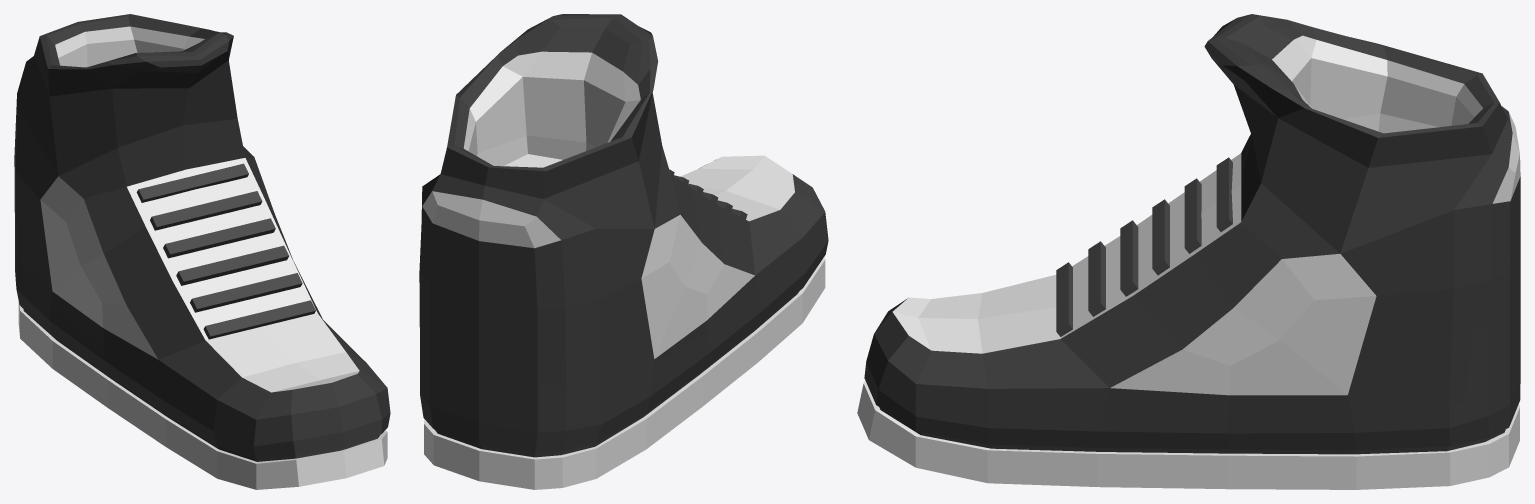
Rendered from Clothes9_C1.fbx.
The picture shows the model from 3 angles, left to right: view 1: azimuth 30°, elevation 25°; view 2: azimuth 150°, elevation 25°; view 3: azimuth 270°, elevation 25°; orthographic projection. The views are drawn at different scales.
Parts seen in each view (by area): view 1: Clothes9_C1; view 2: Clothes9_C1; view 3: Clothes9_C1.
Boxes of the visible parts, x1,y1,x2,y2 form: Clothes9_C1: (14,14,390,489); Clothes9_C1: (419,14,828,489); Clothes9_C1: (857,14,1520,489).
Bounding box in the file's own units: 7.6 × 13.71 × 20.49.
